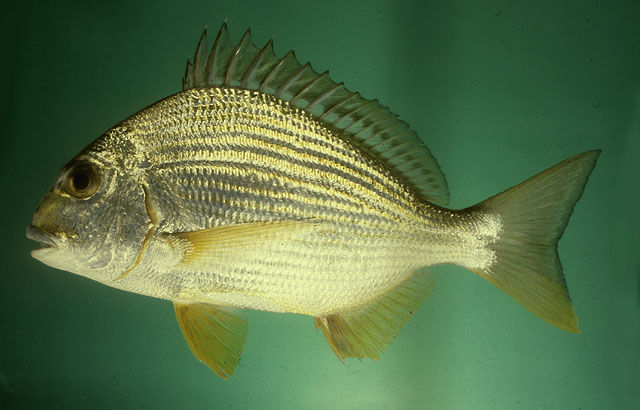fish: (26, 20, 604, 381)
